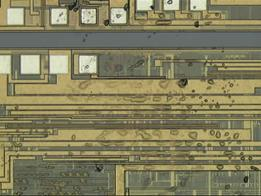PO CONTAMINATION: (1, 1, 260, 196)
